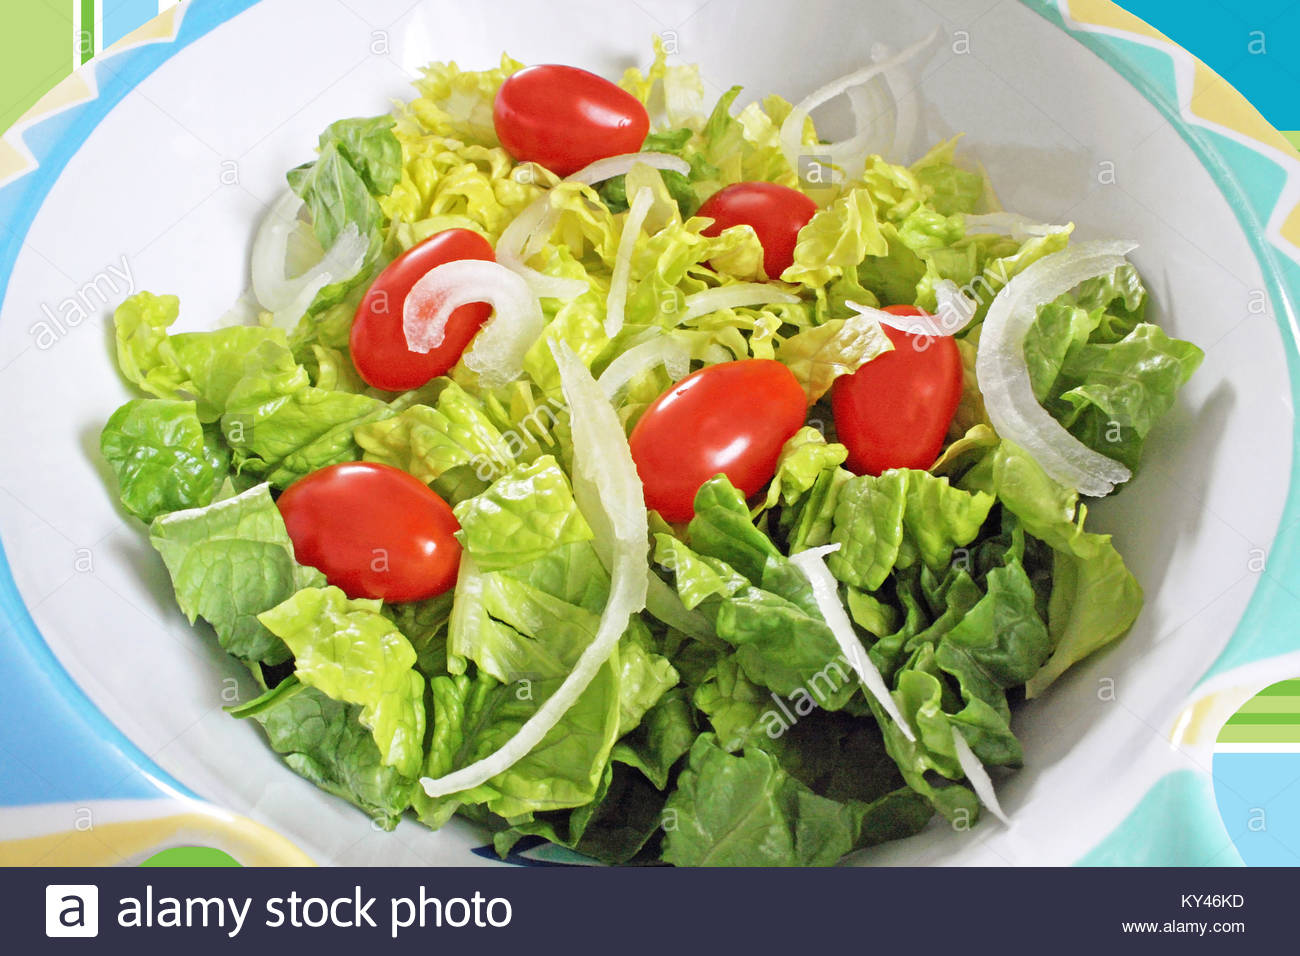chopped lettuce: (237, 235, 1107, 768)
